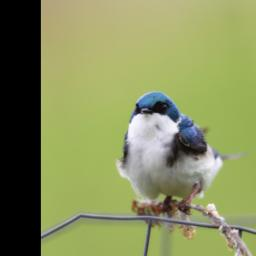Swallow: (103, 72, 256, 230)
